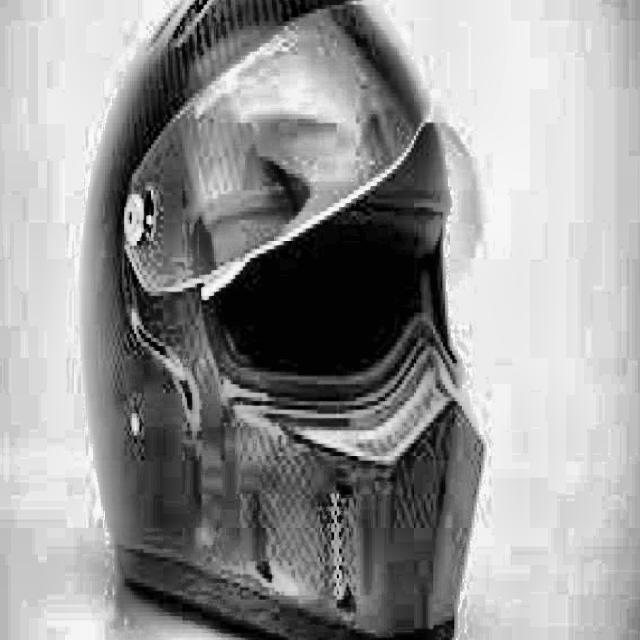Helmet: (82, 0, 502, 640)
